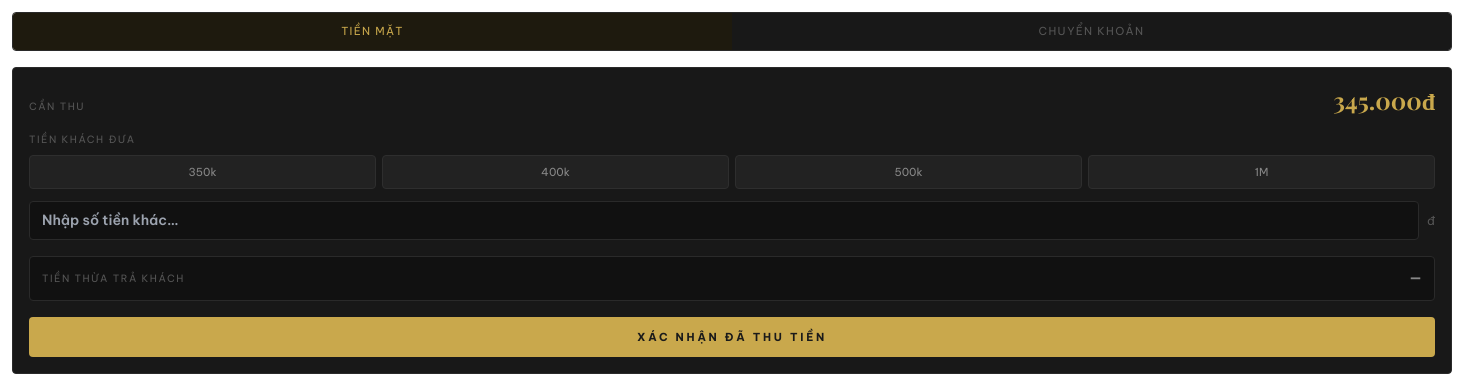
Test case: PaymentPanel › typing in input updates change
The width and height of the screenshot is (1464, 391).
Type "500000" into the field with placeholder "Nhập số tiền khác…". click: [724, 220]
box: [29,201,1419,240]
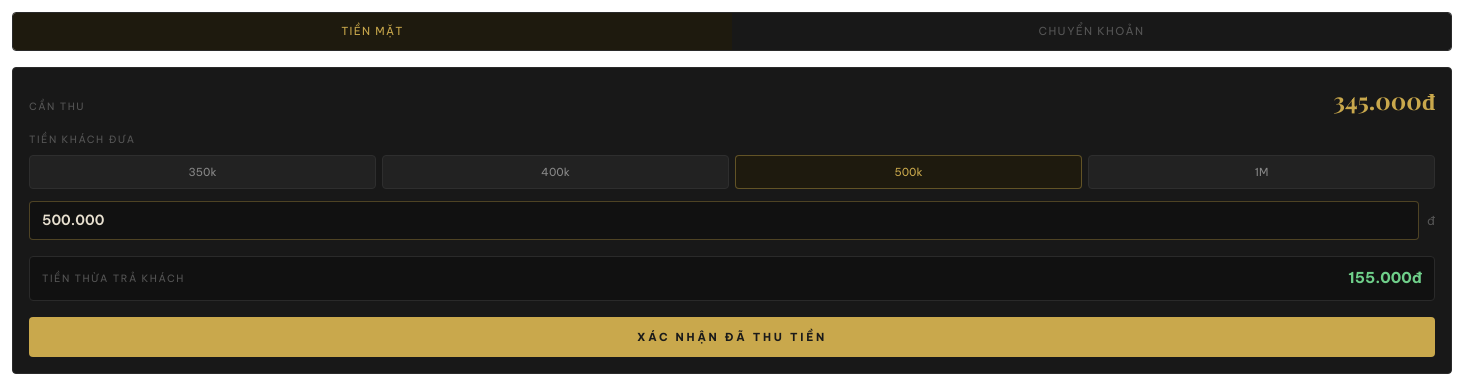
Expected: the text "155.000đ" is shown, [1348,267,1422,290]
